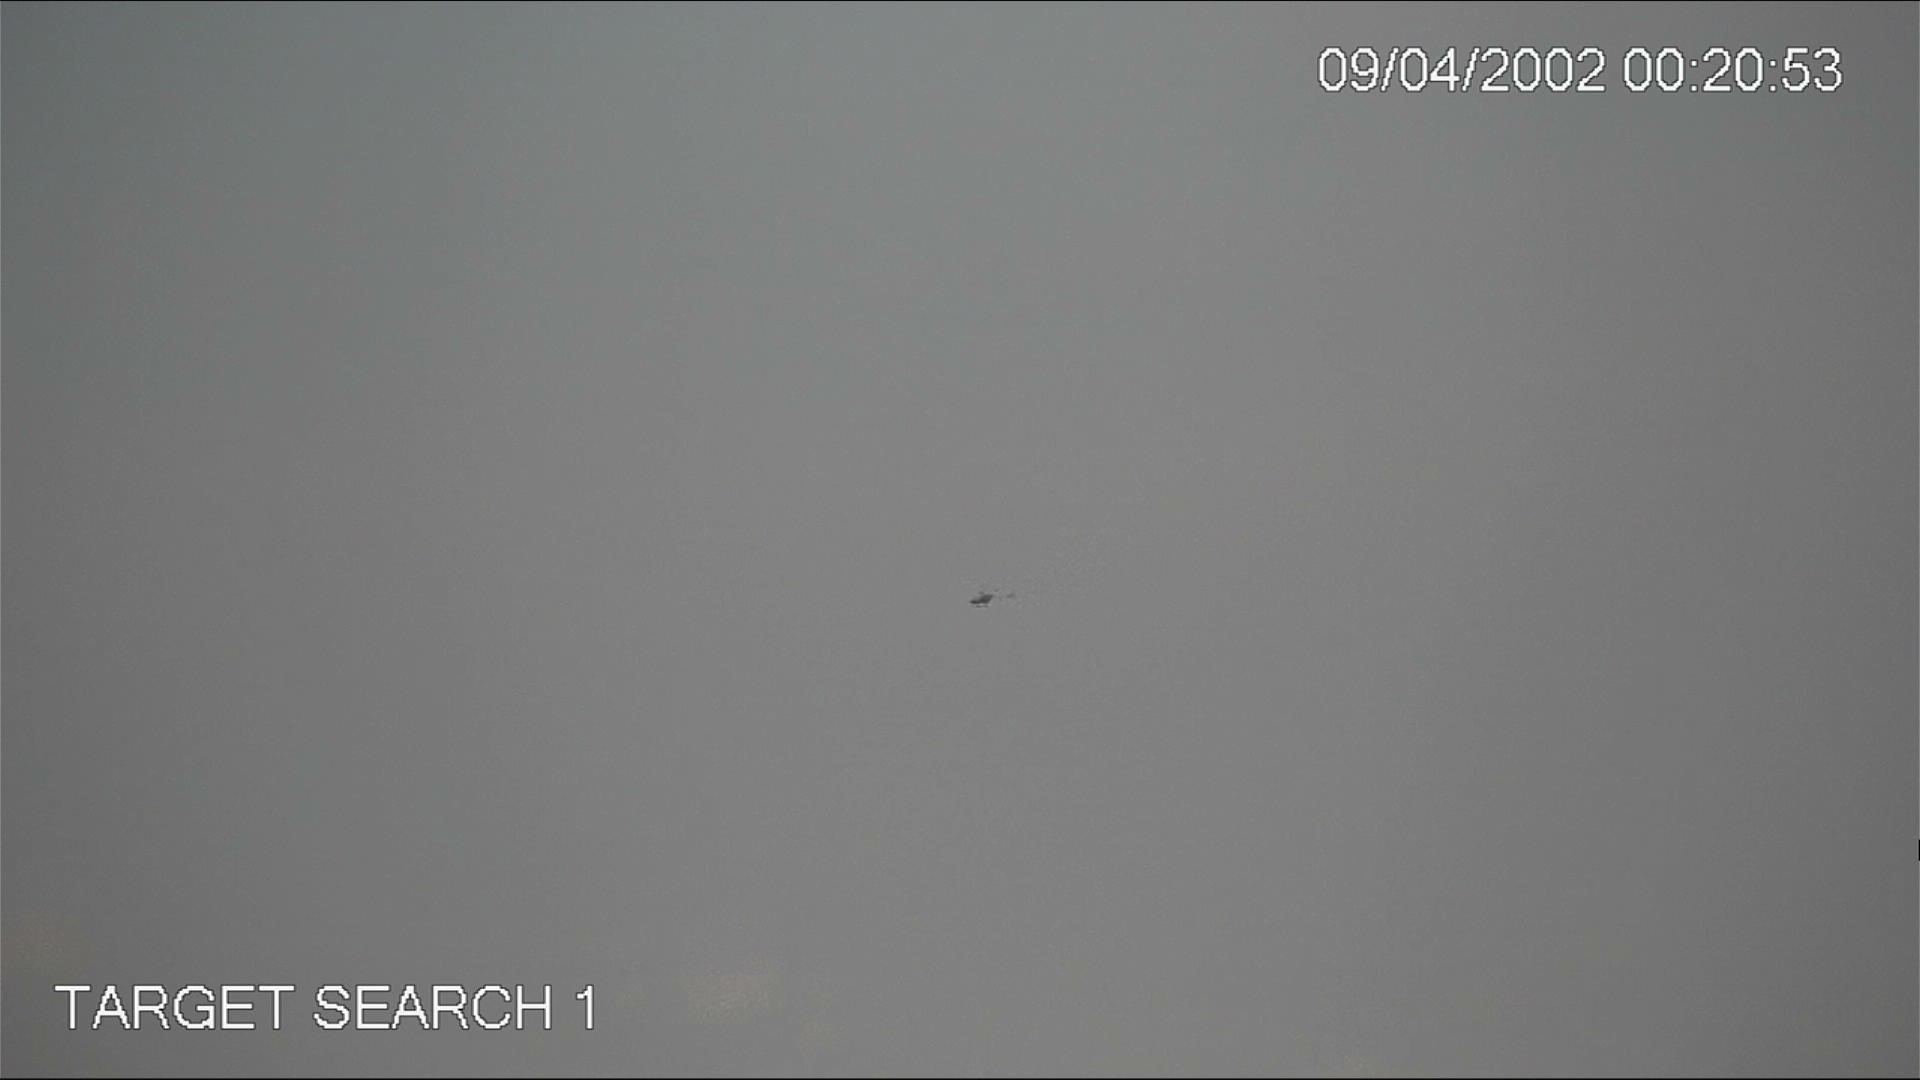SU_30: (971, 587, 997, 608)
